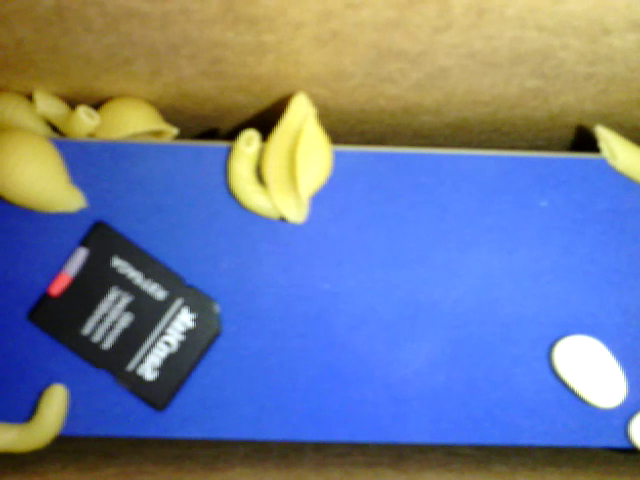elbow: (1, 378, 73, 454), (224, 126, 282, 217), (33, 84, 98, 139)
penne: (595, 127, 639, 177)
shell: (264, 89, 334, 226), (1, 135, 91, 211), (95, 96, 181, 143), (1, 80, 60, 139)
